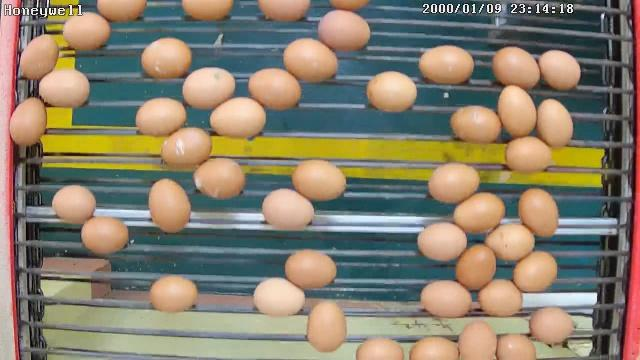egg: (282, 37, 340, 86), (208, 96, 268, 141), (292, 156, 346, 206), (316, 7, 371, 55), (140, 34, 193, 82), (262, 186, 316, 233), (427, 160, 482, 206), (249, 66, 302, 113), (182, 66, 236, 112), (148, 178, 192, 234), (418, 43, 474, 87), (418, 278, 474, 321), (453, 191, 507, 235), (283, 248, 339, 290), (366, 70, 418, 115), (160, 126, 213, 170), (449, 102, 502, 146), (192, 158, 246, 201), (492, 44, 542, 90), (497, 84, 538, 140), (38, 68, 92, 110), (78, 214, 132, 256), (306, 300, 348, 354), (511, 248, 559, 294), (484, 222, 536, 264), (253, 276, 305, 318), (535, 97, 575, 151), (414, 222, 468, 262), (454, 243, 498, 292), (136, 96, 187, 138), (50, 184, 100, 226), (504, 134, 554, 176), (517, 187, 558, 238), (476, 276, 525, 318), (61, 11, 111, 52), (9, 96, 48, 148), (537, 47, 582, 92), (148, 274, 198, 314), (18, 33, 60, 80), (528, 306, 575, 348), (457, 319, 498, 360)
